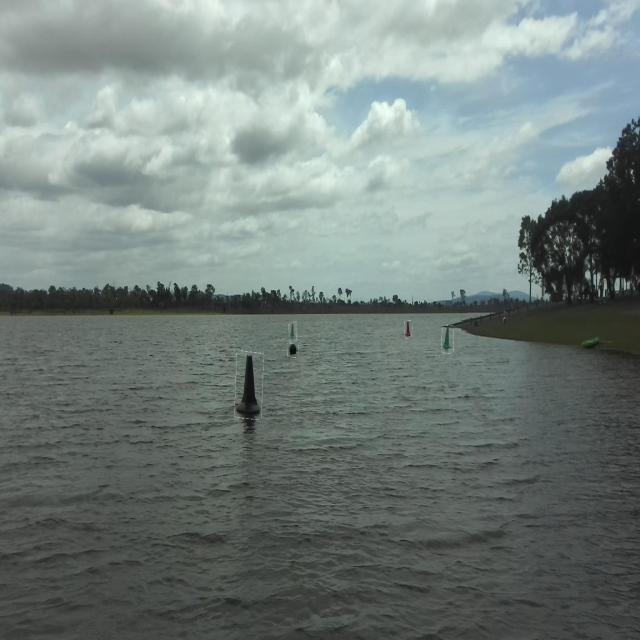Black_Buoy: (237, 348, 261, 418), (285, 342, 299, 360)
Green_Buoy: (440, 325, 453, 354), (286, 320, 300, 340)
Red_Buoy: (403, 319, 414, 338)
